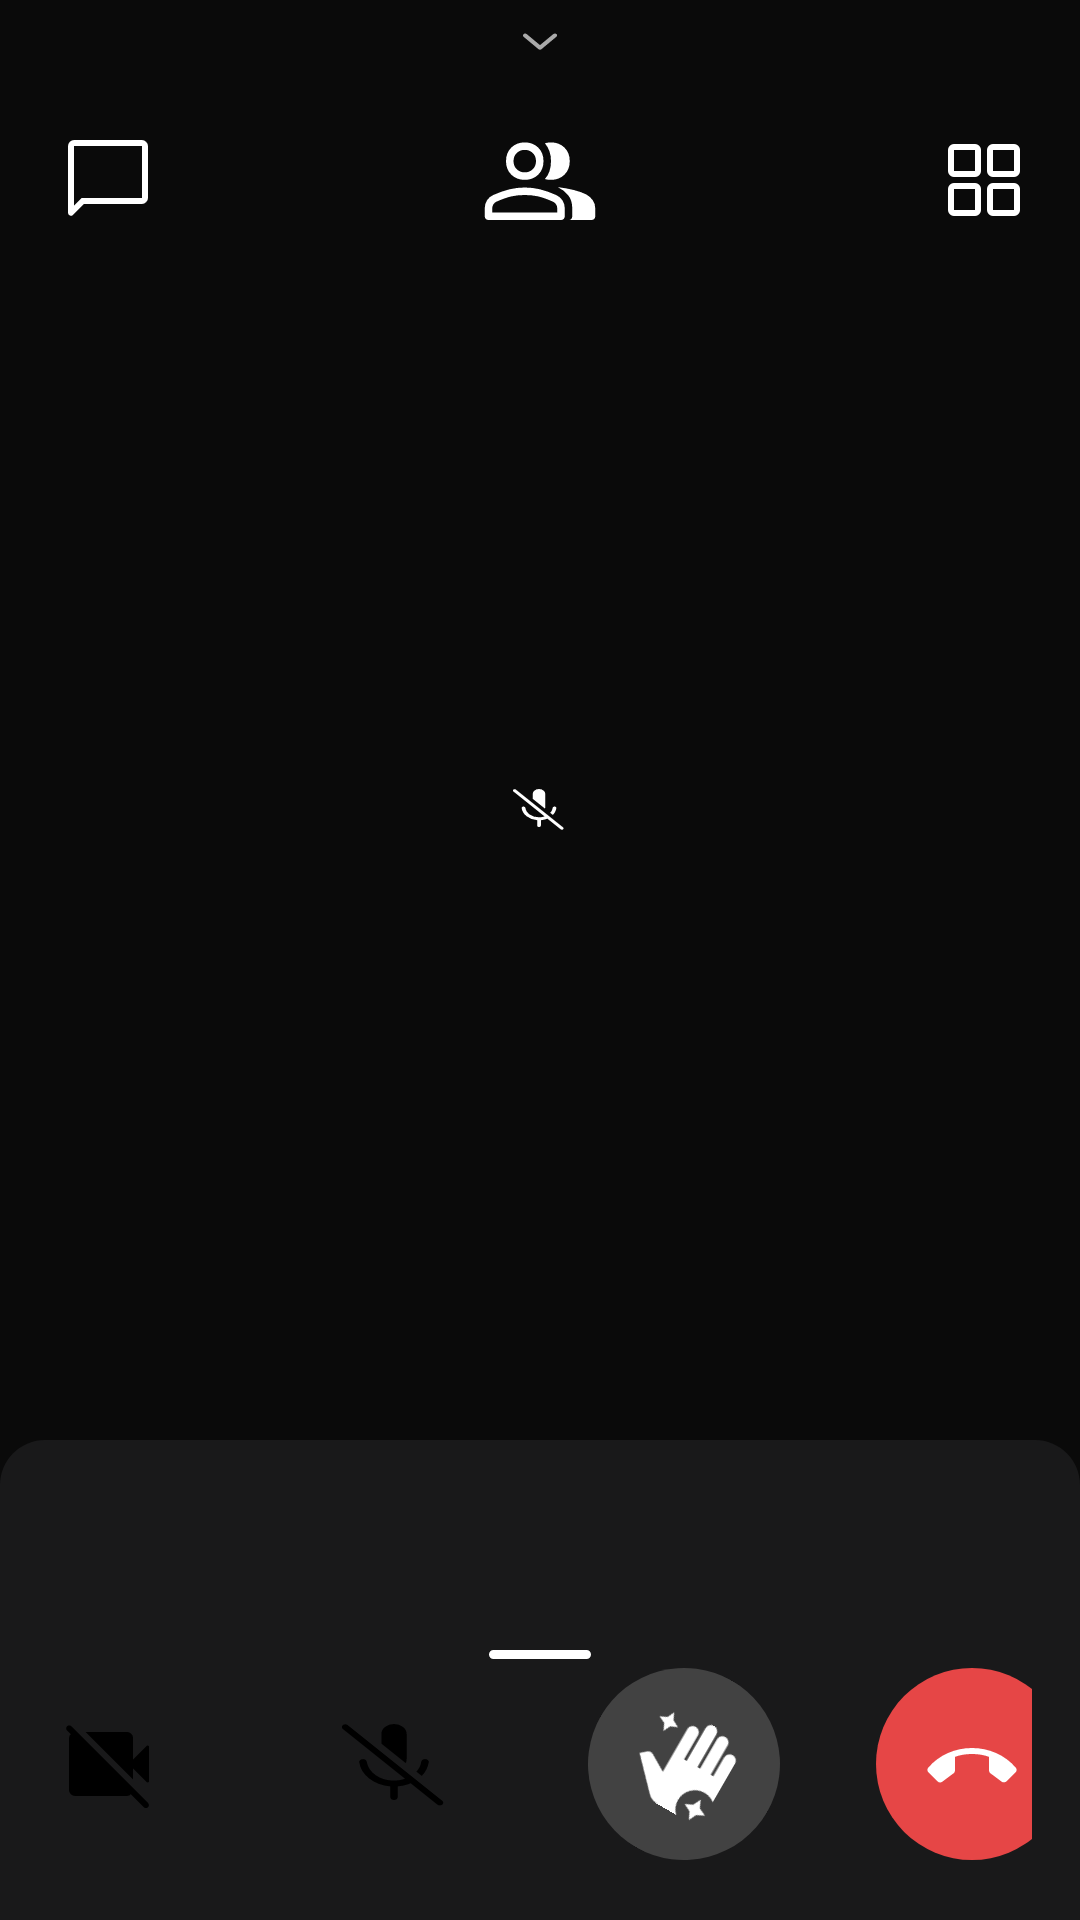

Named icons in this screenshot (1080×1920) and their bounding boxes, (x1, y1, x2, y2):
change camera mode: (67, 1726, 149, 1808)
change micro mode: (342, 1724, 443, 1805)
expand more: (523, 33, 557, 50)
finish app: (876, 1668, 1032, 1860)
open contacts activity: (484, 142, 596, 220)
open system message app: (68, 140, 148, 216)
swap members panels: (948, 144, 1020, 216)
